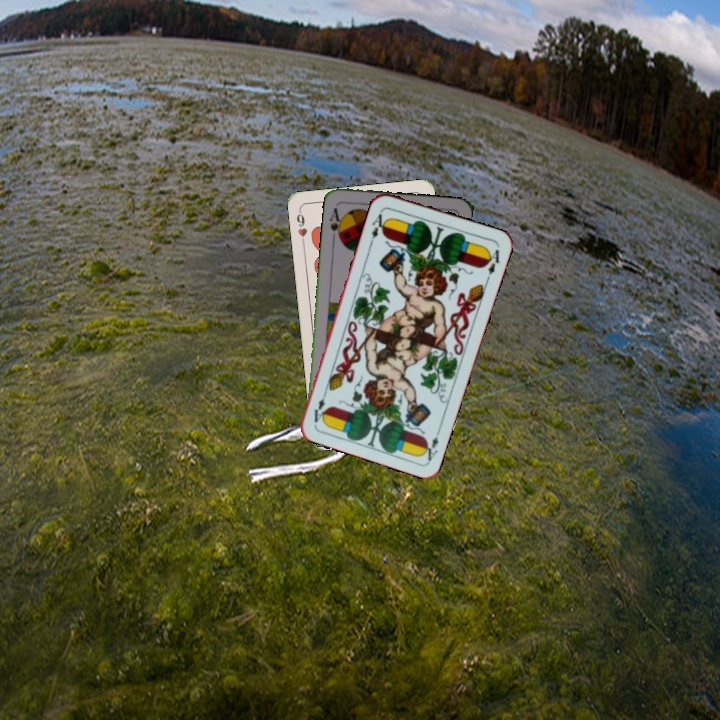EA: (418, 424, 444, 463), (366, 206, 390, 246)
H9: (292, 206, 310, 247)
SA: (326, 204, 346, 243)
